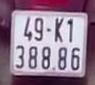1: (67, 17, 75, 44)
3: (14, 43, 26, 69)
4: (22, 16, 33, 42)
6: (70, 45, 81, 71)
8: (26, 45, 38, 70), (41, 44, 52, 70), (55, 46, 66, 69)
9: (33, 17, 46, 42)
K: (53, 13, 64, 43)
